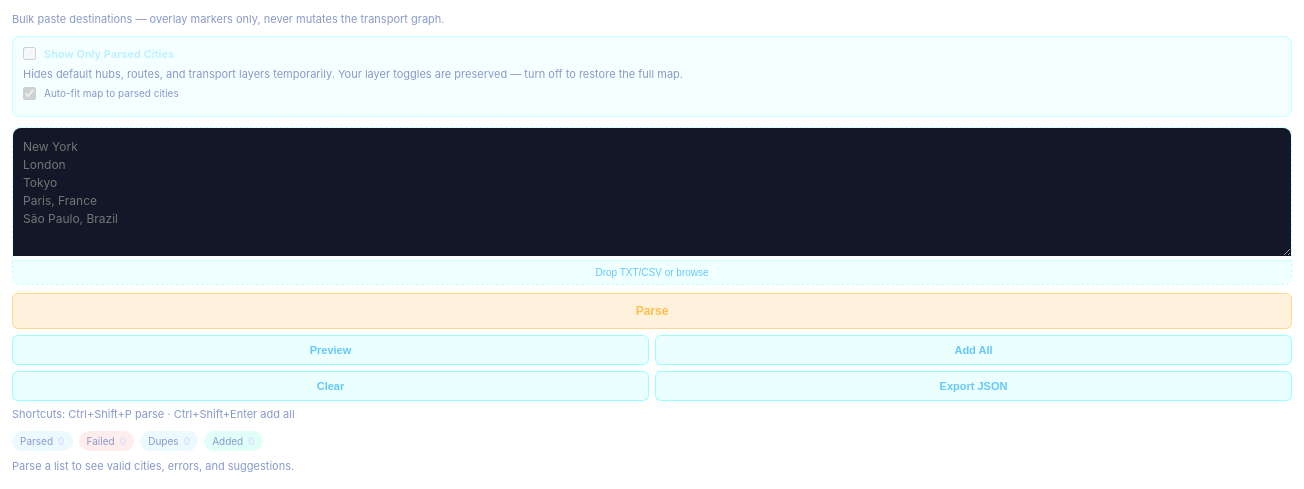
Scenario: ParseCitiesPanel › clears input on Clear
The width and height of the screenshot is (1304, 489).
Type "Tokyo" into the text box named "city list to parse" at (652, 192), box [13, 128, 1291, 256]
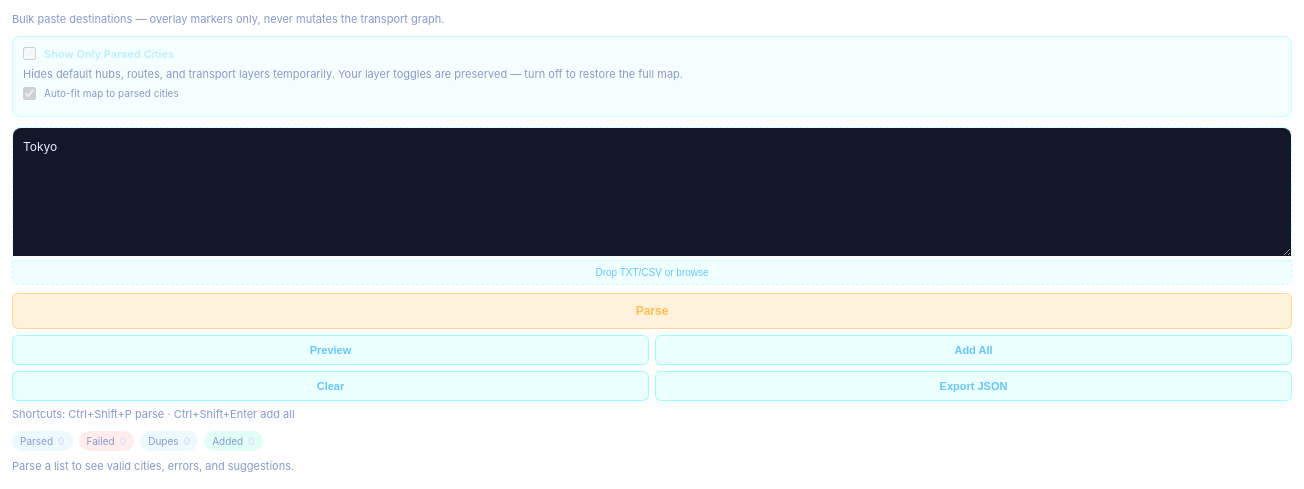
Click the button "Clear" at (330, 386), box [12, 371, 649, 401]
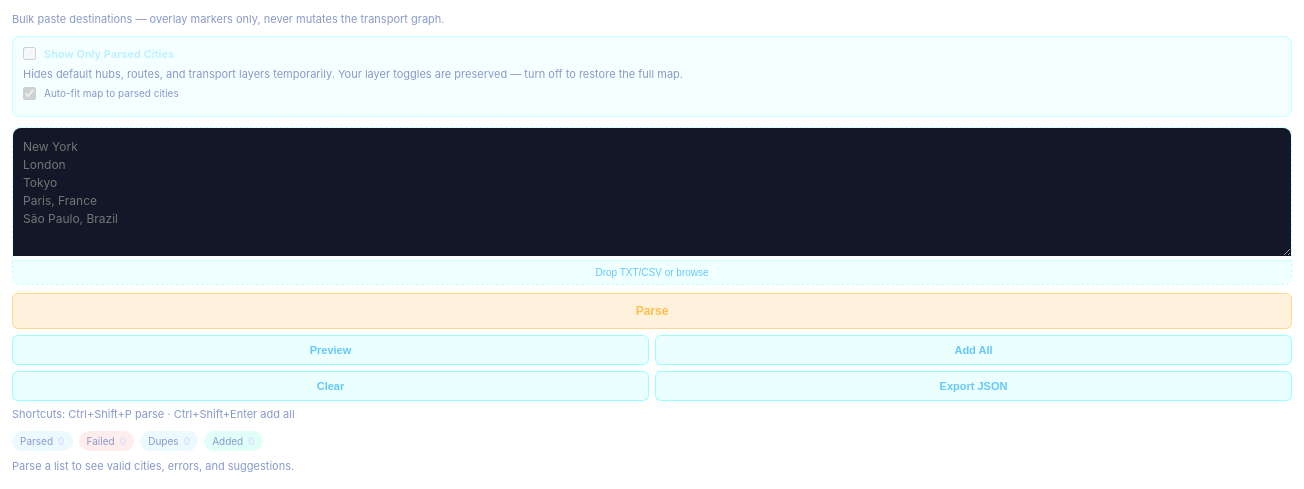
Result: the text box named "city list to parse" is empty at [13, 128, 1291, 256]
